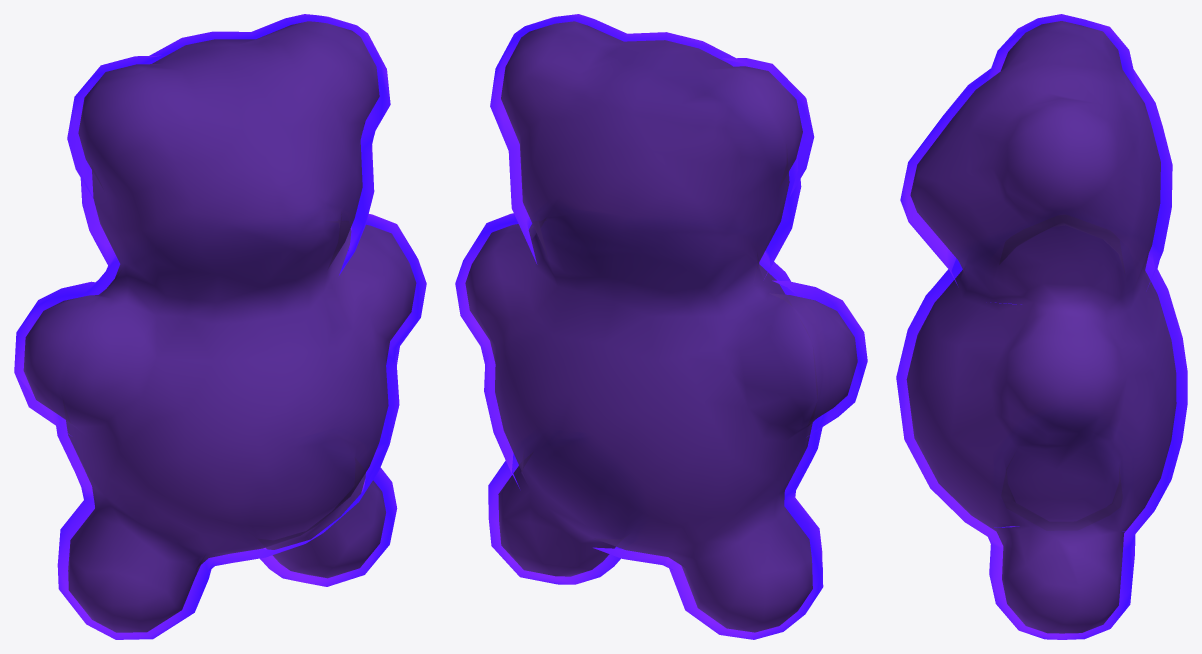
The model's file is bearpurple.glb.
3 renders of one model, left to right at view 1: azimuth 30°, elevation 25°; view 2: azimuth 150°, elevation 25°; view 3: azimuth 270°, elevation 25°, orthographic. The views are drawn at different scales.
Visible parts, largest first — view 1: Sphere.012; view 2: Sphere.012; view 3: Sphere.012.
Part boxes in pixels (<box>): Sphere.012: <box>14,14,426,639</box>; Sphere.012: <box>455,14,867,639</box>; Sphere.012: <box>896,14,1187,639</box>.
Size of the model in its own units: 2.41 by 3.37 by 1.64.
